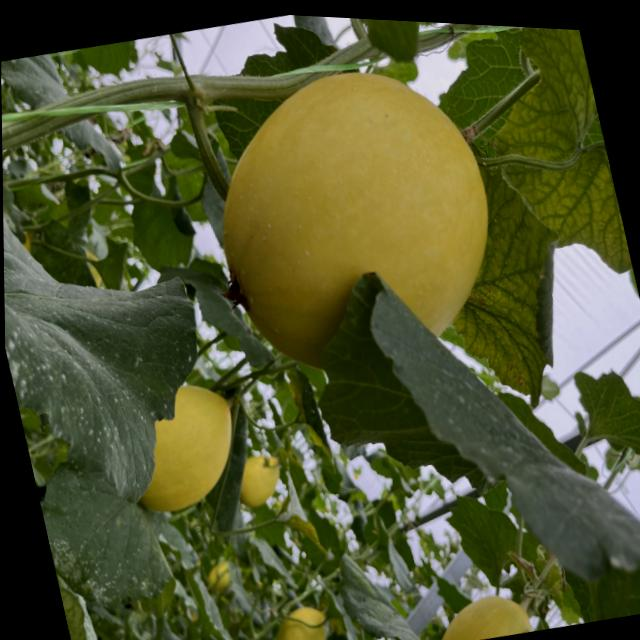SLCV: (411, 135, 594, 425)
downy mildew: (466, 24, 635, 300)
healthy: (283, 203, 640, 640), (569, 354, 640, 485)
powdery mildew: (2, 118, 239, 533), (28, 434, 184, 635)
